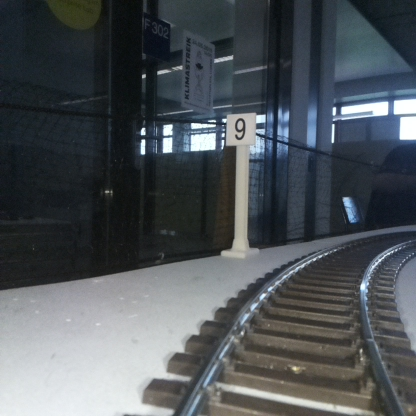white-info-9: (226, 112, 255, 256)
